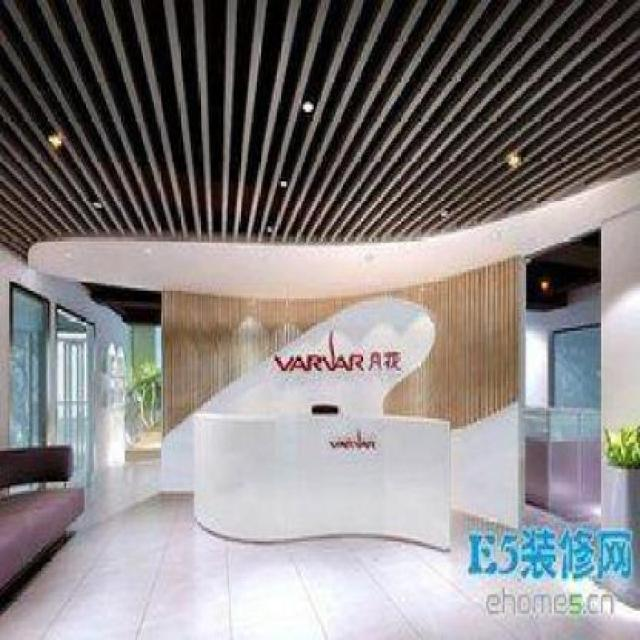frontdesk: (186, 401, 458, 564)
